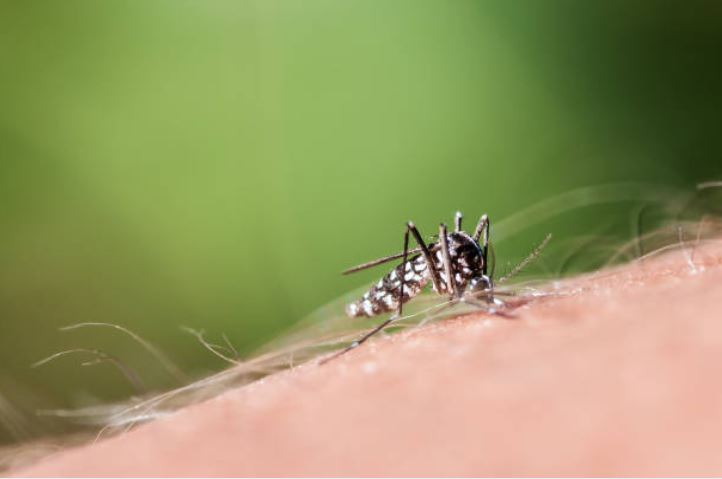dengue_mosquito: (341, 211, 533, 319)
